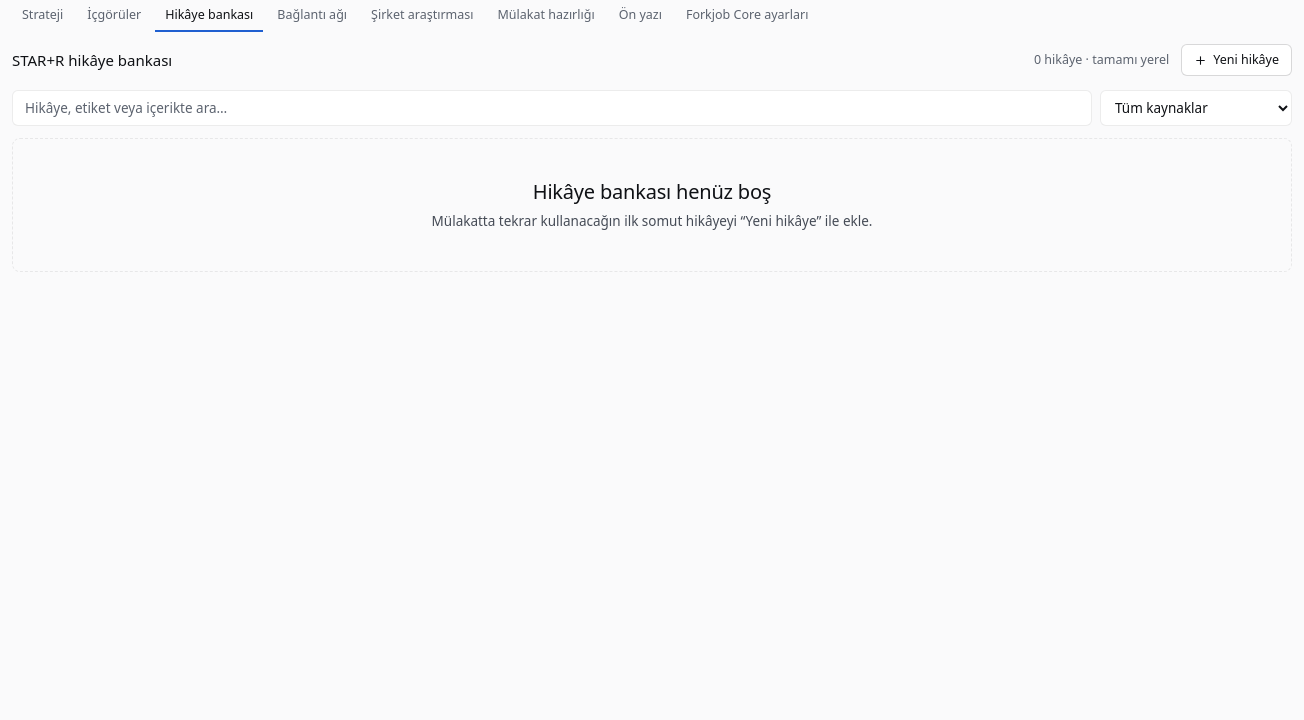
CareerWorkspace › ForkjobCore ayarlarını Basit/Advanced olarak ayırır ve ham metin alanı bırakmaz
Click the tab "Forkjob Core ayarları" at (747, 16), box 676,0 -> 818,32
(page scrolled)
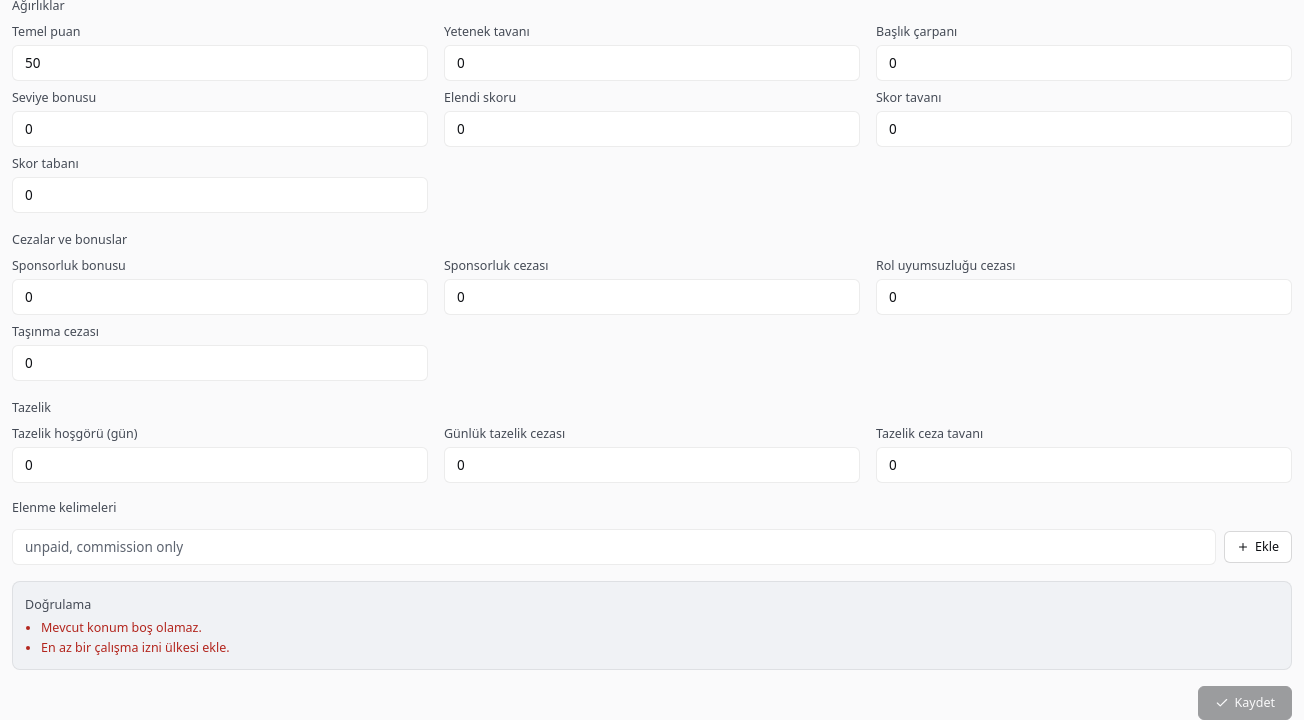
Now the text "Elenme kelimeleri" is shown, box 12,499 -> 116,516
Now the text "Doğrulama" is shown, box 25,596 -> 91,613
